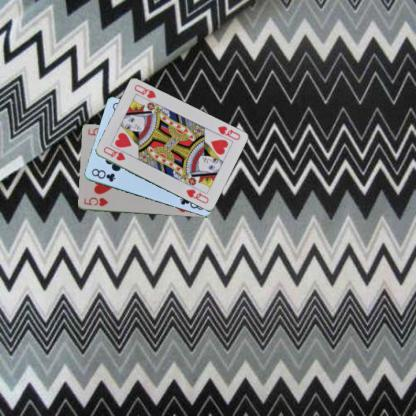5h: (82, 196, 109, 208)
8c: (89, 166, 117, 183)
Qh: (100, 144, 126, 162), (215, 124, 241, 141)
